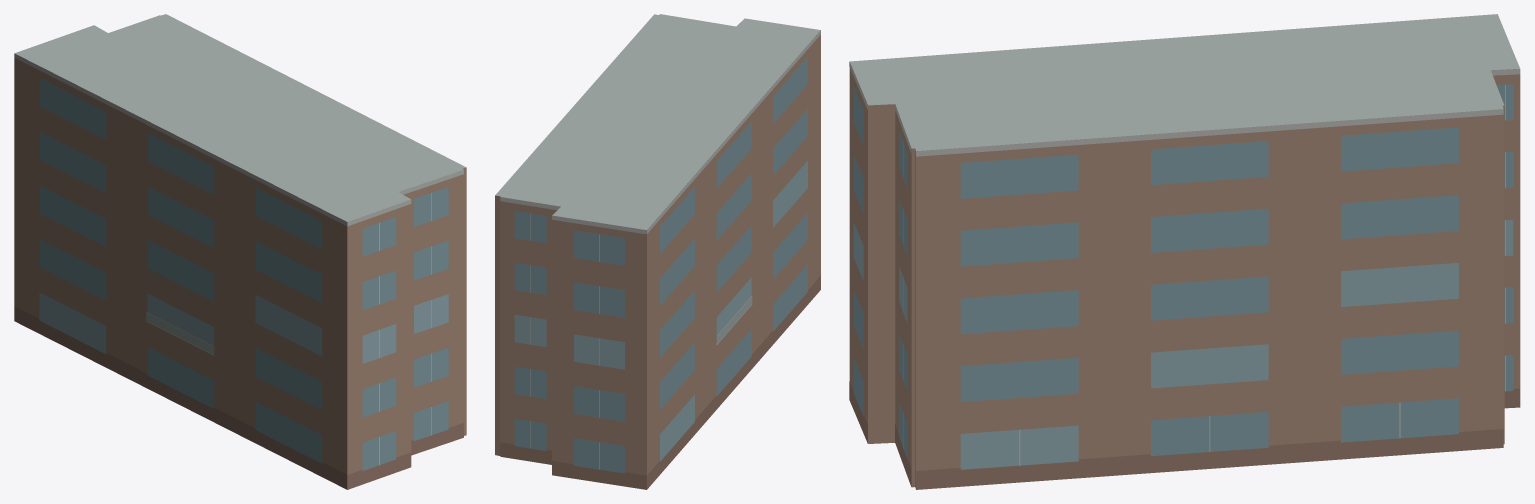
The model's file is survey-upis-32738793.glb.
3 views of the same model, side by side, from view 1: azimuth 30°, elevation 25°; view 2: azimuth 150°, elevation 25°; view 3: azimuth 270°, elevation 25° (orthographic). The views are drawn at different scales.
Visible parts, largest first — view 1: survey-upis-32738793.tmp; view 2: survey-upis-32738793.tmp; view 3: survey-upis-32738793.tmp.
Boxes of the visible parts, <box> form: survey-upis-32738793.tmp: <box>14,14,466,489</box>; survey-upis-32738793.tmp: <box>495,14,820,489</box>; survey-upis-32738793.tmp: <box>849,14,1520,489</box>.
Size of the model in its own units: 13.04 by 15 by 26.93.
